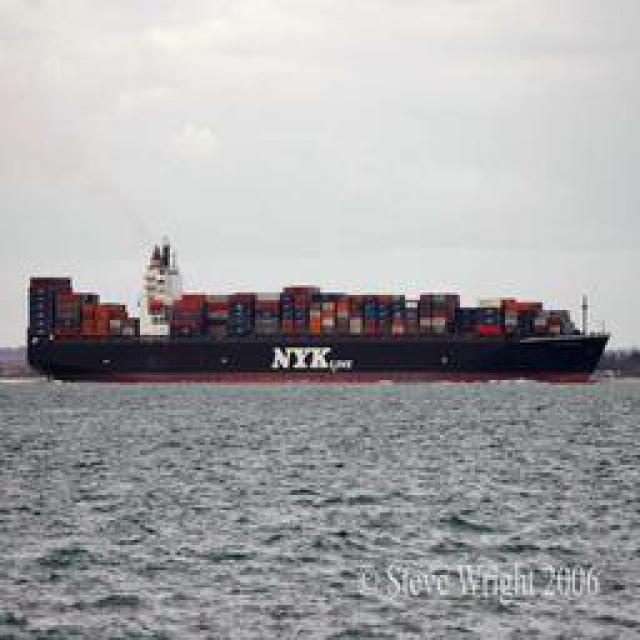Ship: (16, 246, 624, 389)
